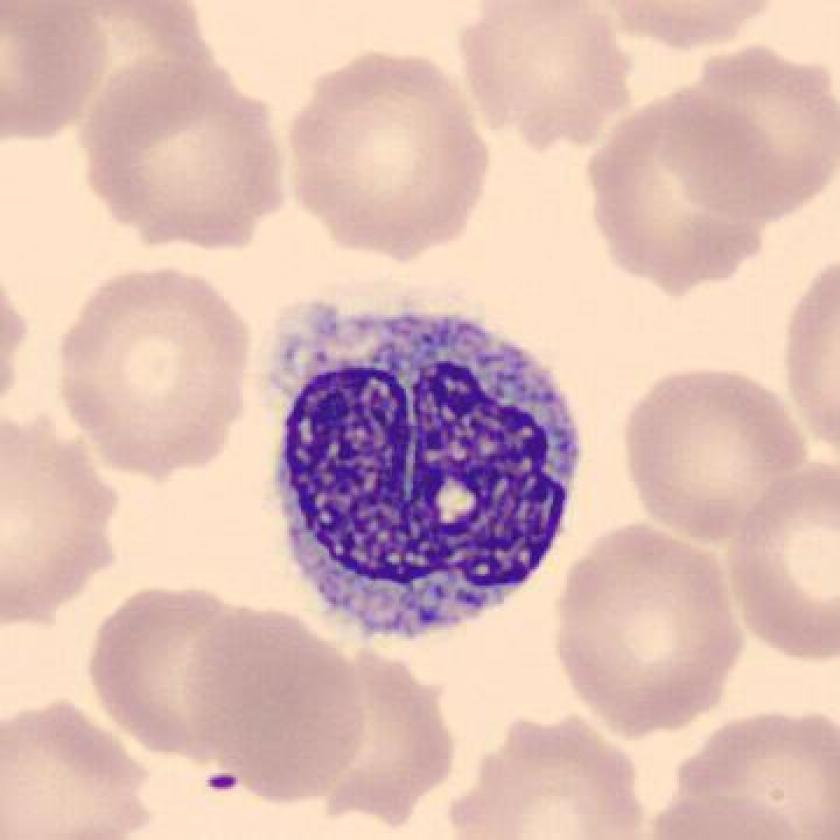monocyte: (244, 281, 603, 661)
